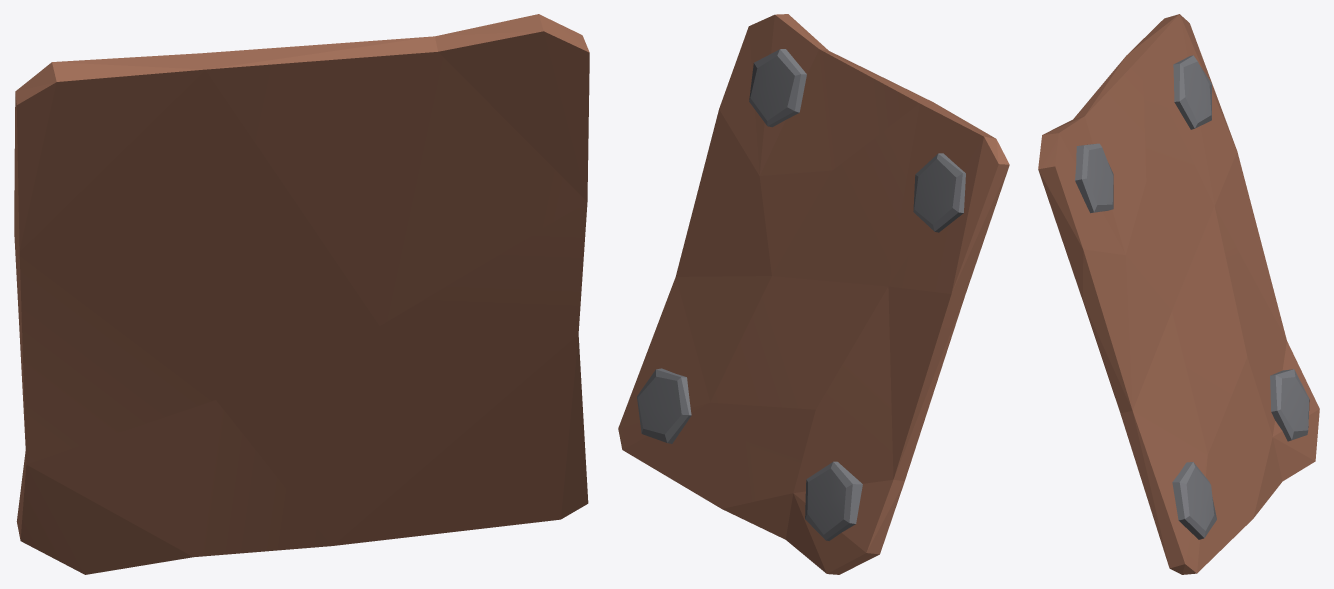
The model's file is trinketHorn2.fbx.
3 views of the same model, side by side, from view 1: azimuth 30°, elevation 25°; view 2: azimuth 150°, elevation 25°; view 3: azimuth 270°, elevation 25° (orthographic). The views are drawn at different scales.
Parts seen in each view (by area): view 1: trinketHorn2; view 2: trinketHorn2; view 3: trinketHorn2.
Boxes of the visible parts, x1,y1,x2,y2 form: trinketHorn2: (14,14,589,574); trinketHorn2: (618,14,1009,574); trinketHorn2: (1038,14,1319,574).
Bounding box in the file's own units: 1.26 × 1.32 × 0.8007.
